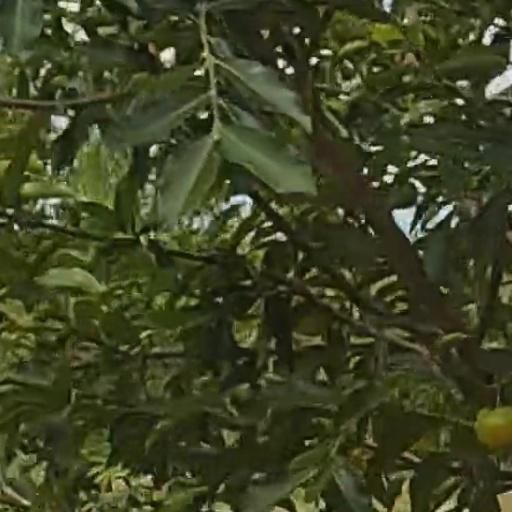acerola_vermelha: (477, 407, 511, 453)
